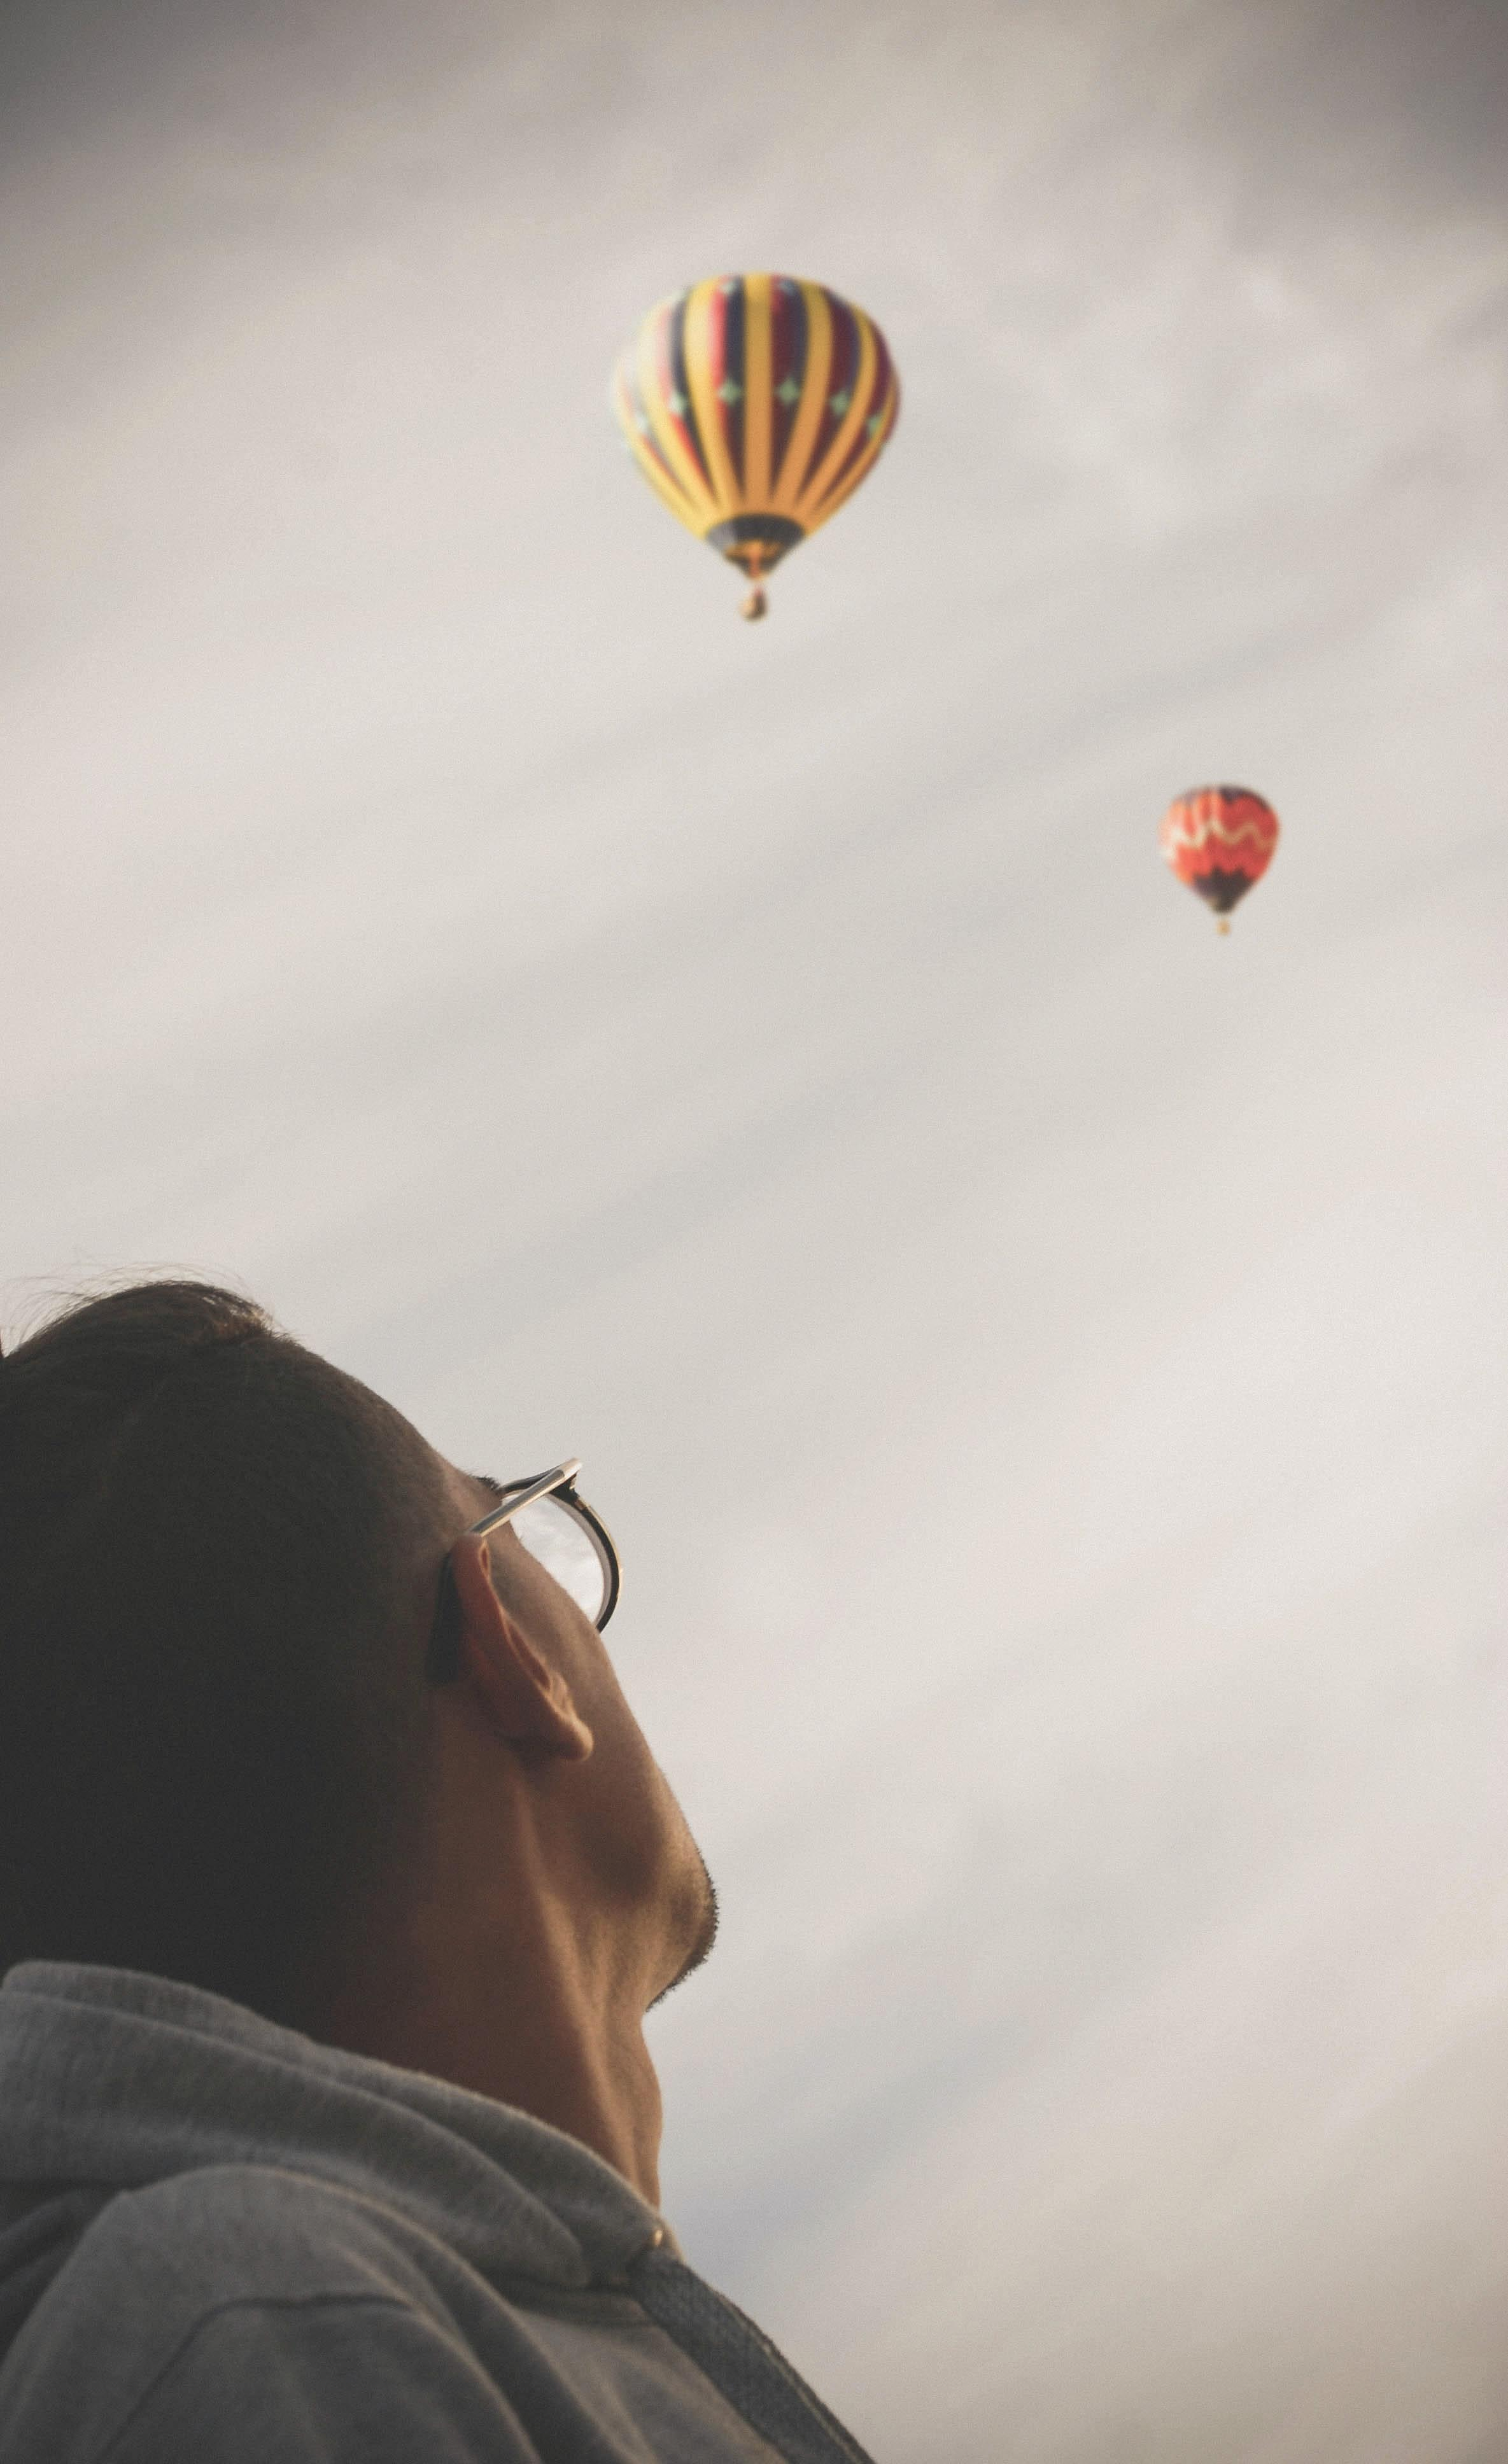hot air ballon: (611, 273, 901, 618), (1154, 783, 1281, 935)
